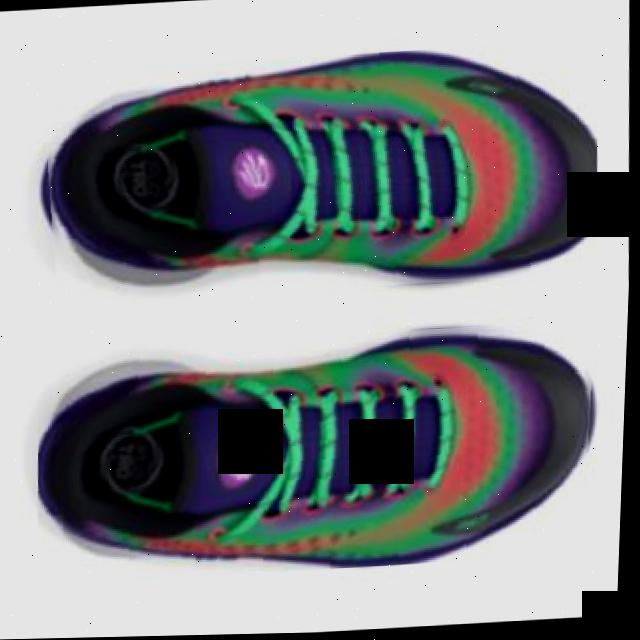shoe: (34, 316, 605, 585), (34, 42, 605, 307)
